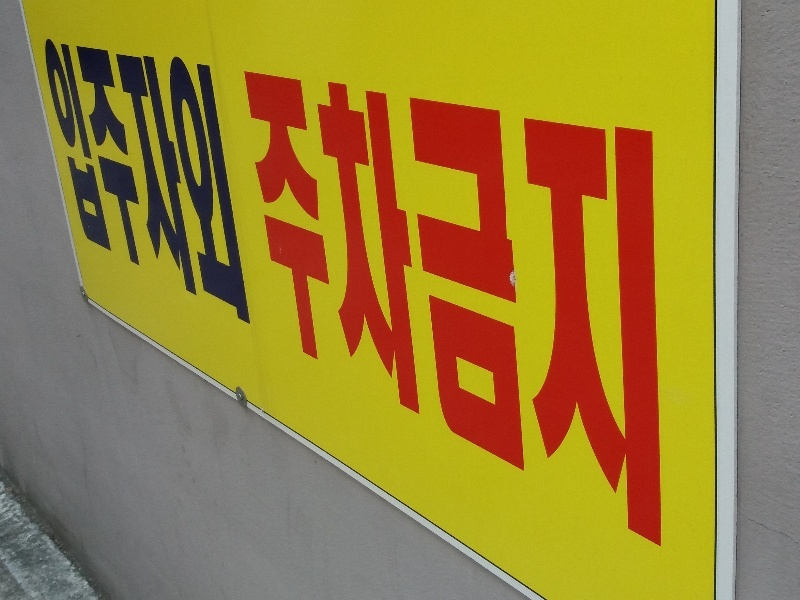text: (241, 67, 256, 557), (257, 67, 272, 557), (273, 67, 288, 557), (289, 67, 304, 557), (305, 67, 320, 557), (321, 67, 336, 557), (337, 67, 352, 557), (353, 67, 368, 557), (369, 67, 384, 557), (385, 67, 400, 557), (401, 67, 416, 557), (417, 67, 432, 557), (433, 67, 448, 557), (449, 67, 464, 557), (465, 67, 480, 557), (481, 67, 496, 557), (497, 67, 512, 557), (513, 67, 528, 557), (529, 67, 544, 557), (545, 67, 560, 557), (561, 67, 576, 557), (577, 67, 592, 557), (593, 67, 608, 557), (609, 67, 624, 557), (625, 67, 640, 557), (641, 67, 656, 557), (49, 34, 64, 333), (65, 34, 80, 333), (81, 34, 96, 333), (97, 34, 112, 333), (113, 34, 128, 333), (129, 34, 144, 333), (145, 34, 160, 333), (161, 34, 176, 333), (177, 34, 192, 333), (193, 34, 208, 333), (209, 34, 224, 333), (225, 34, 240, 333), (241, 34, 255, 333), (657, 67, 665, 557), (36, 34, 48, 333)
